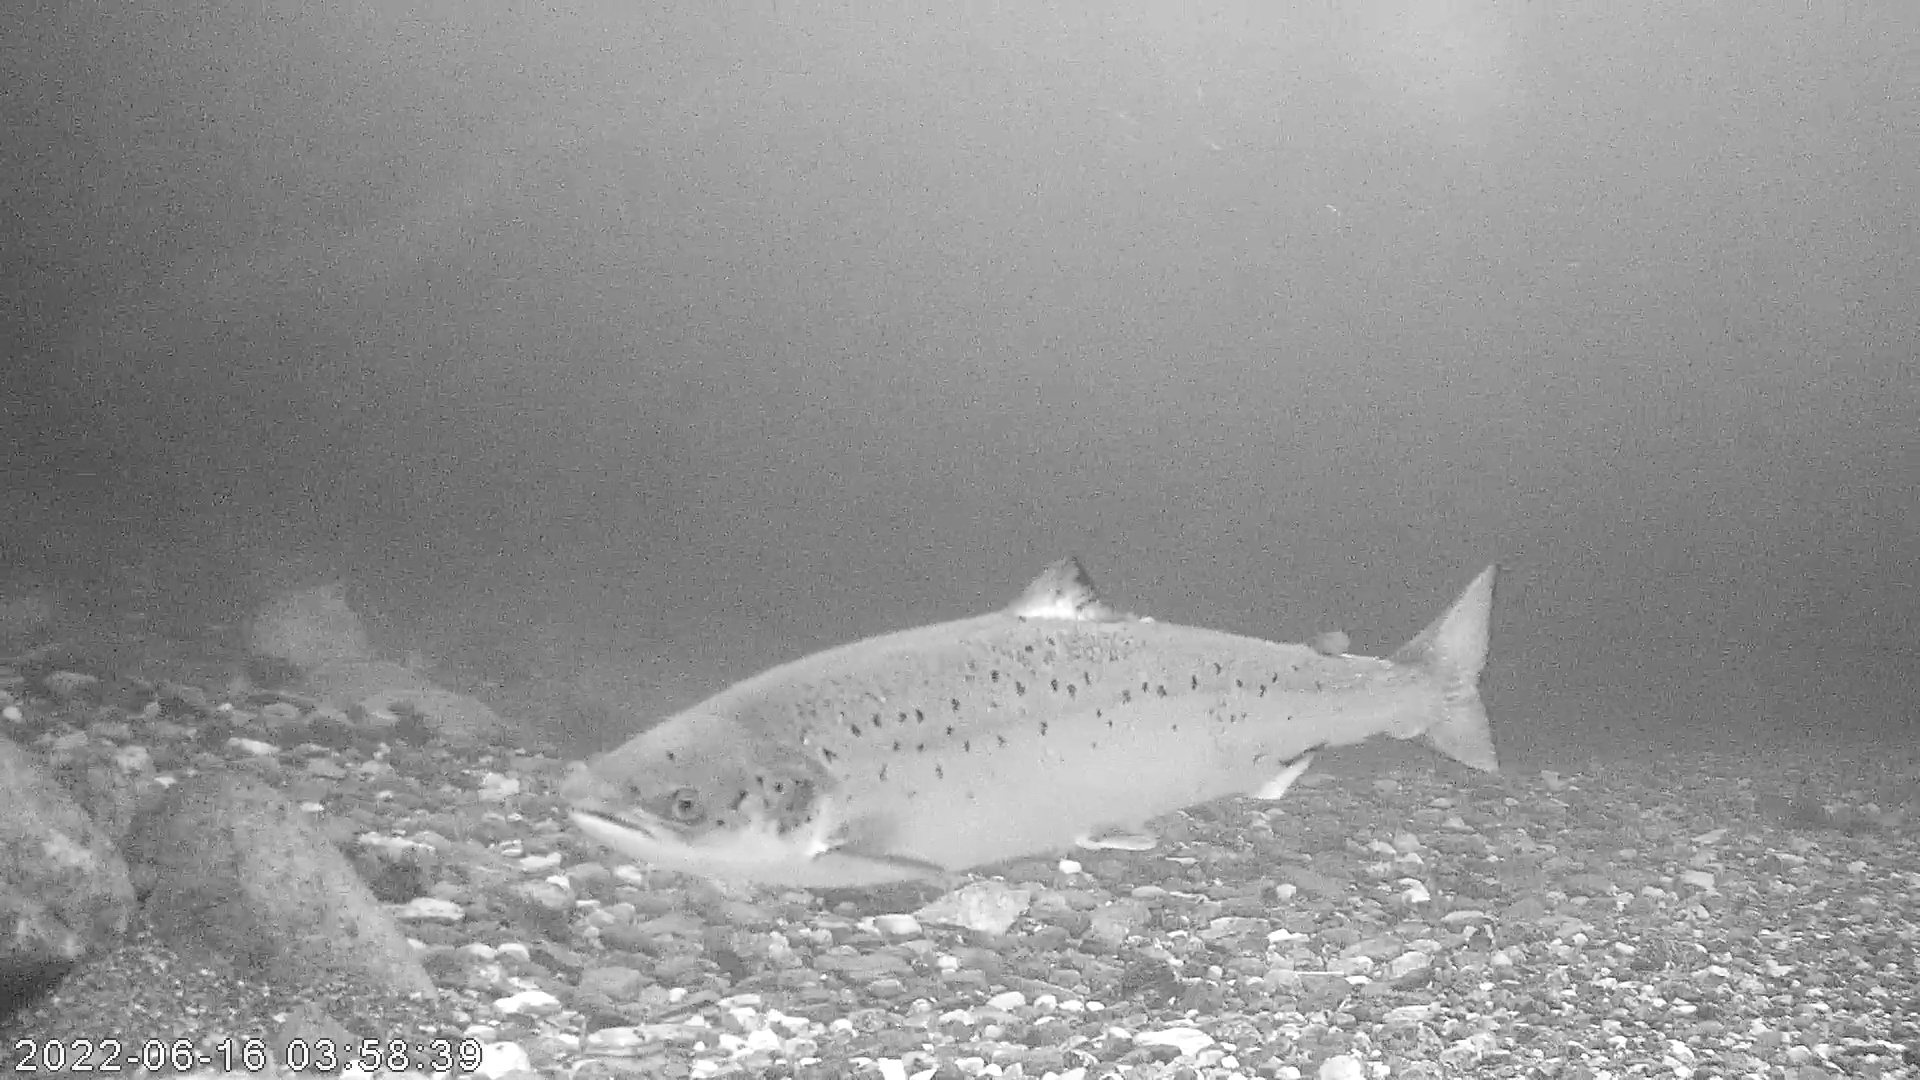salmon: (556, 553, 1499, 891)
